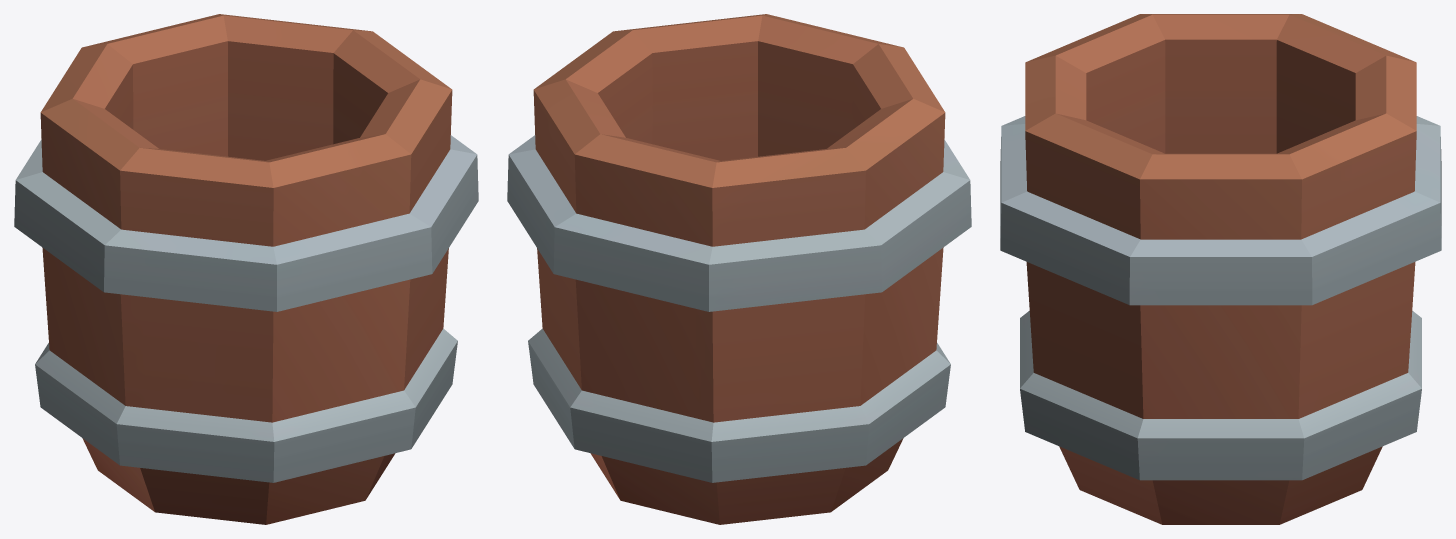
The model's file is bucket.glb.
3 views of the same model, side by side, from view 1: azimuth 30°, elevation 25°; view 2: azimuth 150°, elevation 25°; view 3: azimuth 270°, elevation 25° (orthographic). The views are drawn at different scales.
Visible parts, largest first — view 1: bucket; view 2: bucket; view 3: bucket.
Boxes of the visible parts, x1=… form: bucket: x1=14, y1=14, x2=478, y2=524; bucket: x1=507, y1=14, x2=971, y2=524; bucket: x1=1000, y1=14, x2=1441, y2=524.
Bounding box in the file's own units: 0.9765 × 0.9289 × 0.9765.
1 material, 1 textured.
